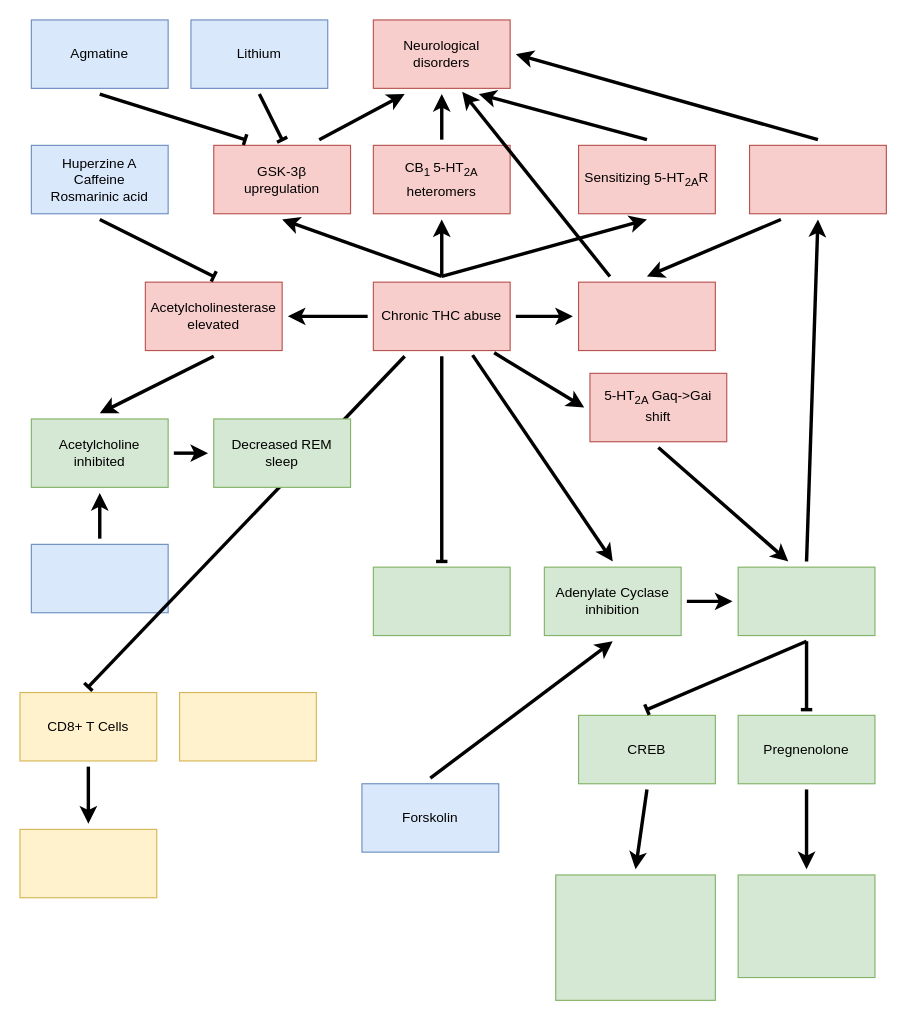
Image size: 906x1020. Some labels were removed from this diagram. Each missing label, with the centre of its shape:
cAMP inhibiton: [806,601]
Choline supplements Nicotine: [99,578]
Chronic autoimmune diseases: [88,863]
D1-D2 heteromers: [646,316]
ETC C1 NADH -> NAD+: [441,601]
GABA presynaptic inhibition disrupted: [817,179]
Gene transcription c-fos BDNF Tyrosine hydroxylase Neuropeptides Circadian clock: [635,937]
P38 MAPK activation: [247,726]
Progestogens Androgens Estrogens Glucocorticoids Mineralocorticoids: [806,926]
